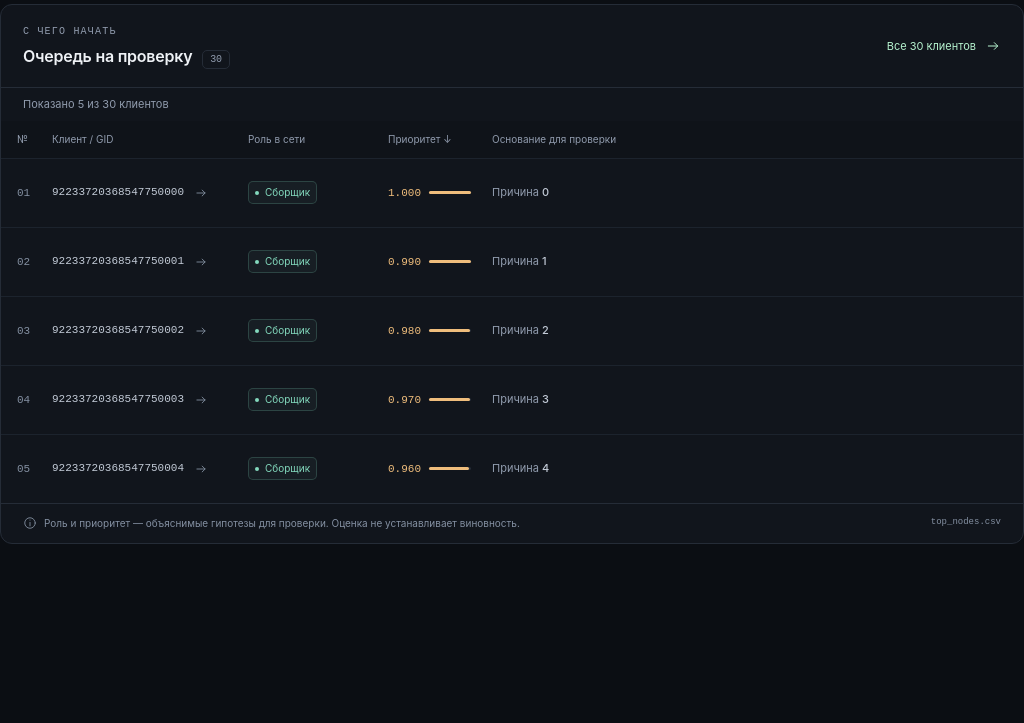
Complete priority list › reports visible/total counts, retains all CSV ranks/scores and opens a row after the first 20
The width and height of the screenshot is (1024, 723).
Expected: the message reads "Показано 5 из 30 клиентов", [23, 97, 169, 111]
Expected: the number of rows with class "table-row" is 5, [1, 158, 1023, 226]; [1, 226, 1023, 296]; [1, 296, 1023, 364]; [1, 364, 1023, 434]; [1, 434, 1023, 502]
Click the button "Все 30 клиентов": [944, 46] box [887, 33, 1001, 59]
(page scrolled)
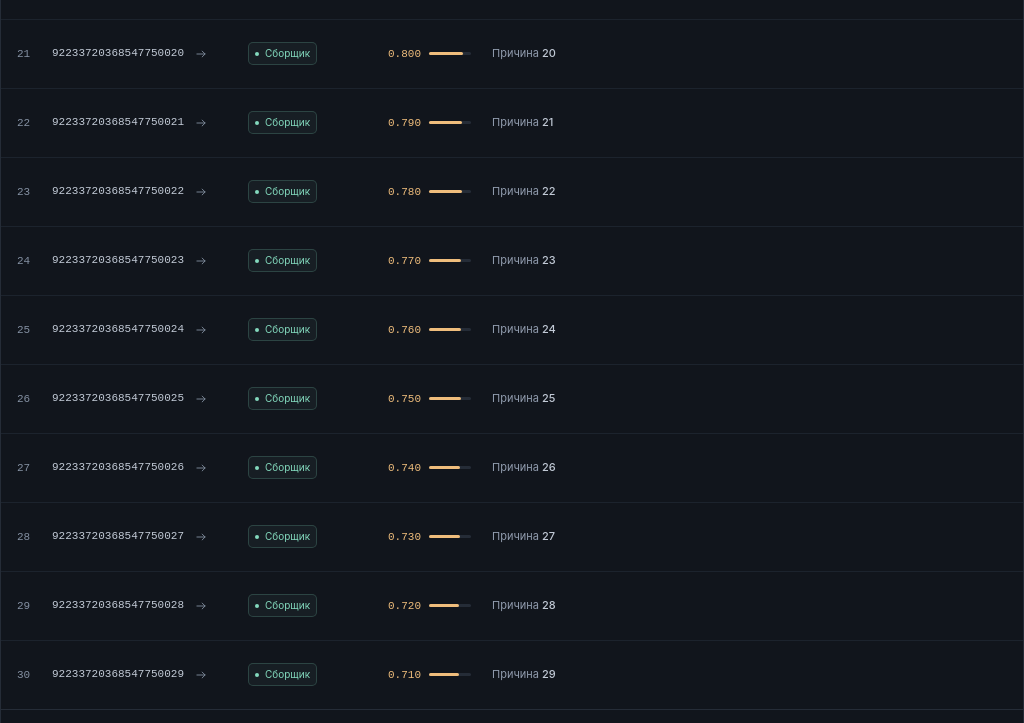
Click the button "92233720368547750025": [130, 399] box [52, 382, 208, 415]
(page scrolled)
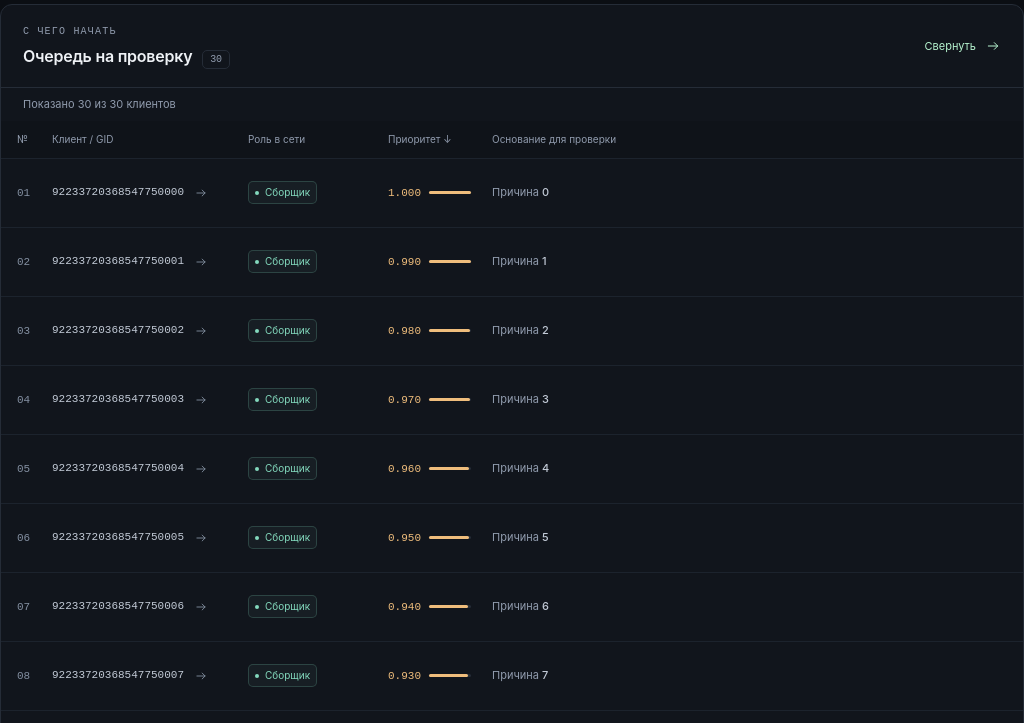
Click the button named "Все 30 клиентов": [963, 46] box [924, 33, 1001, 59]
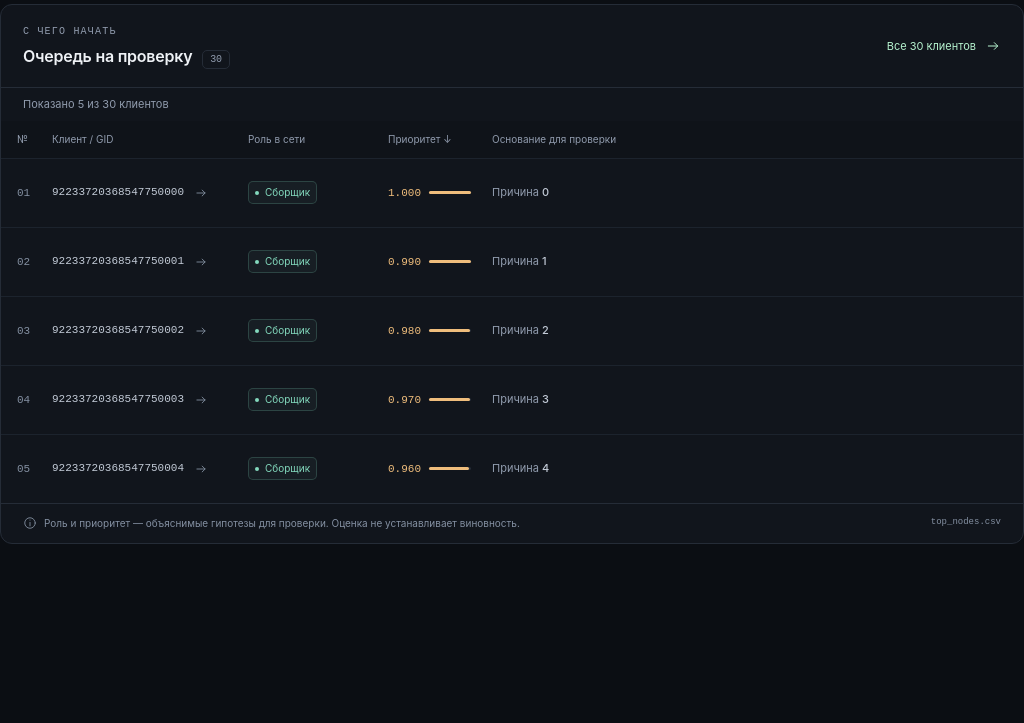
Now the number of rows with class "table-row" is 5, box [1, 158, 1023, 226]; [1, 226, 1023, 296]; [1, 296, 1023, 364]; [1, 364, 1023, 434]; [1, 434, 1023, 502]
